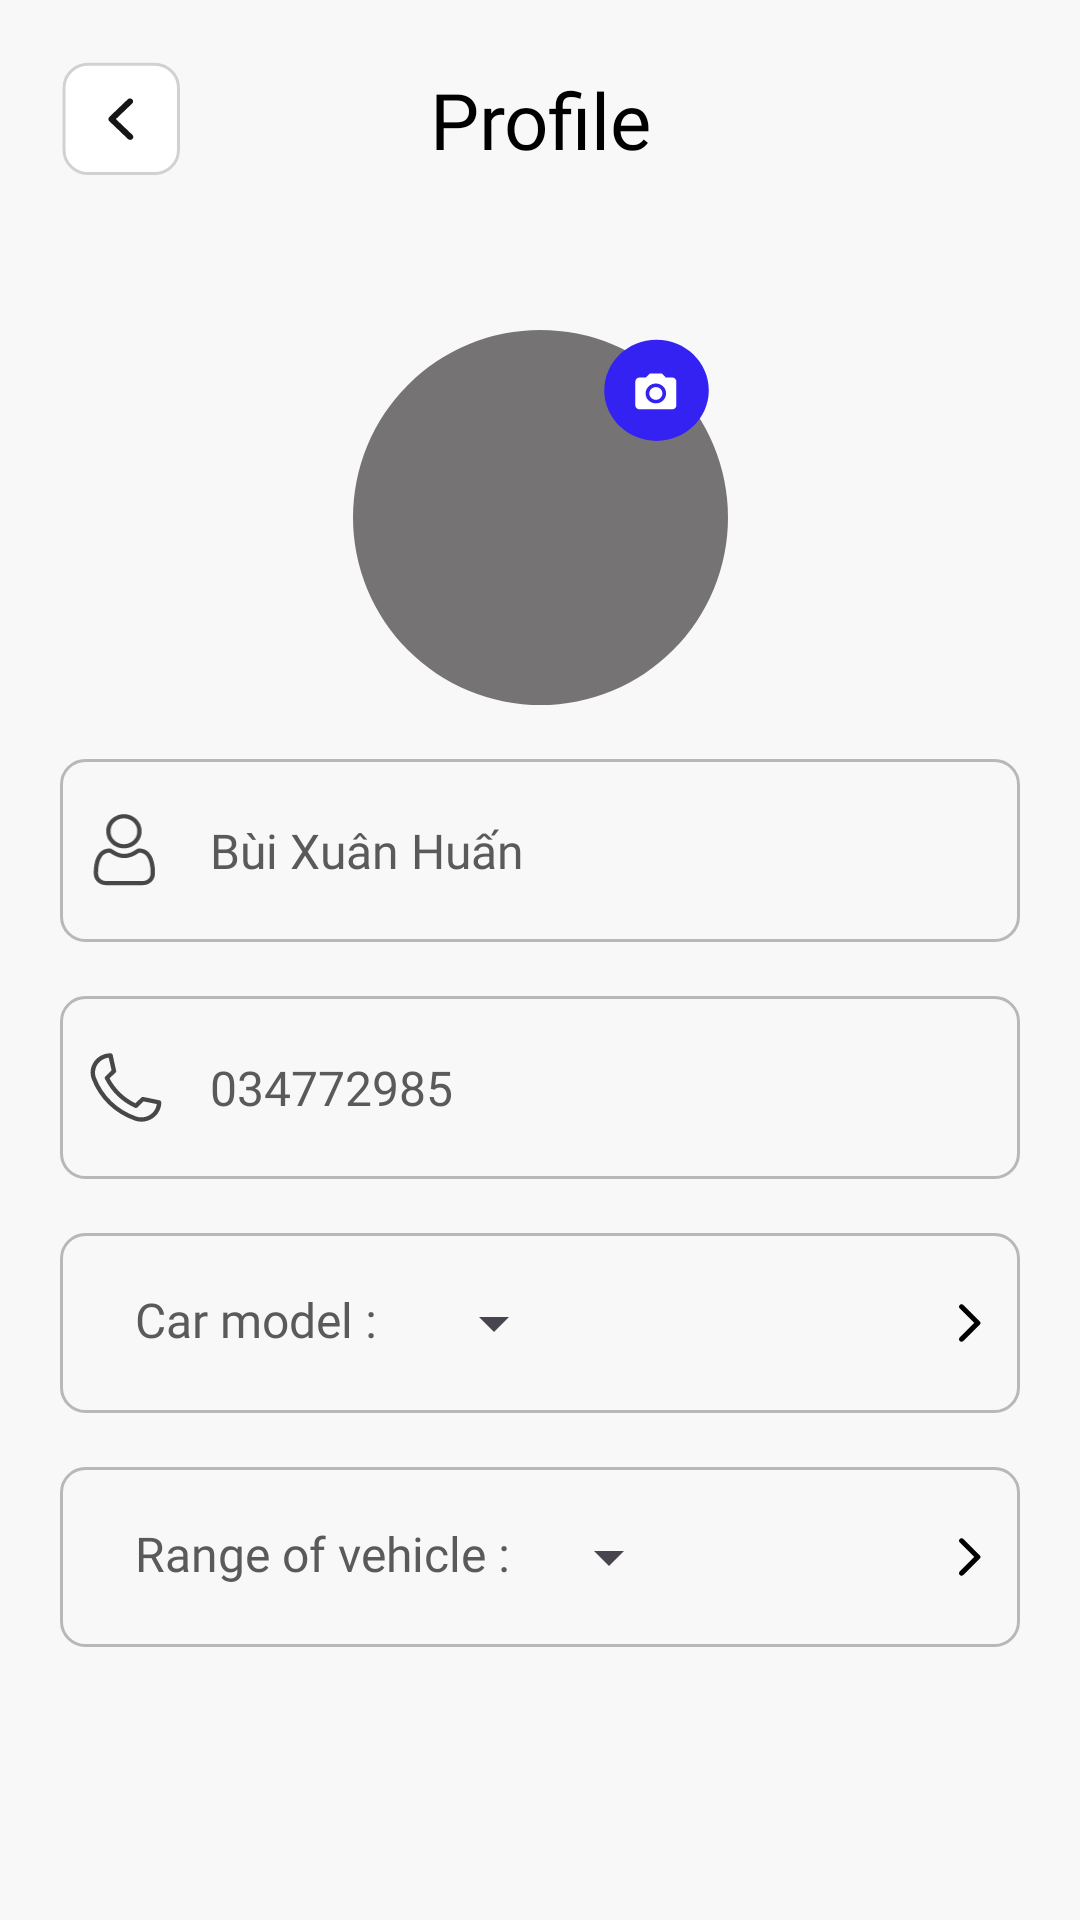

Where to tap for icons on this 1080 × 1920 app screen, as point (x, y):
arrow forward: point (970, 1323), point (970, 1557)
back: point (121, 119)
camera: point (656, 399)
person: point (124, 850)
phone: point (126, 1087)
